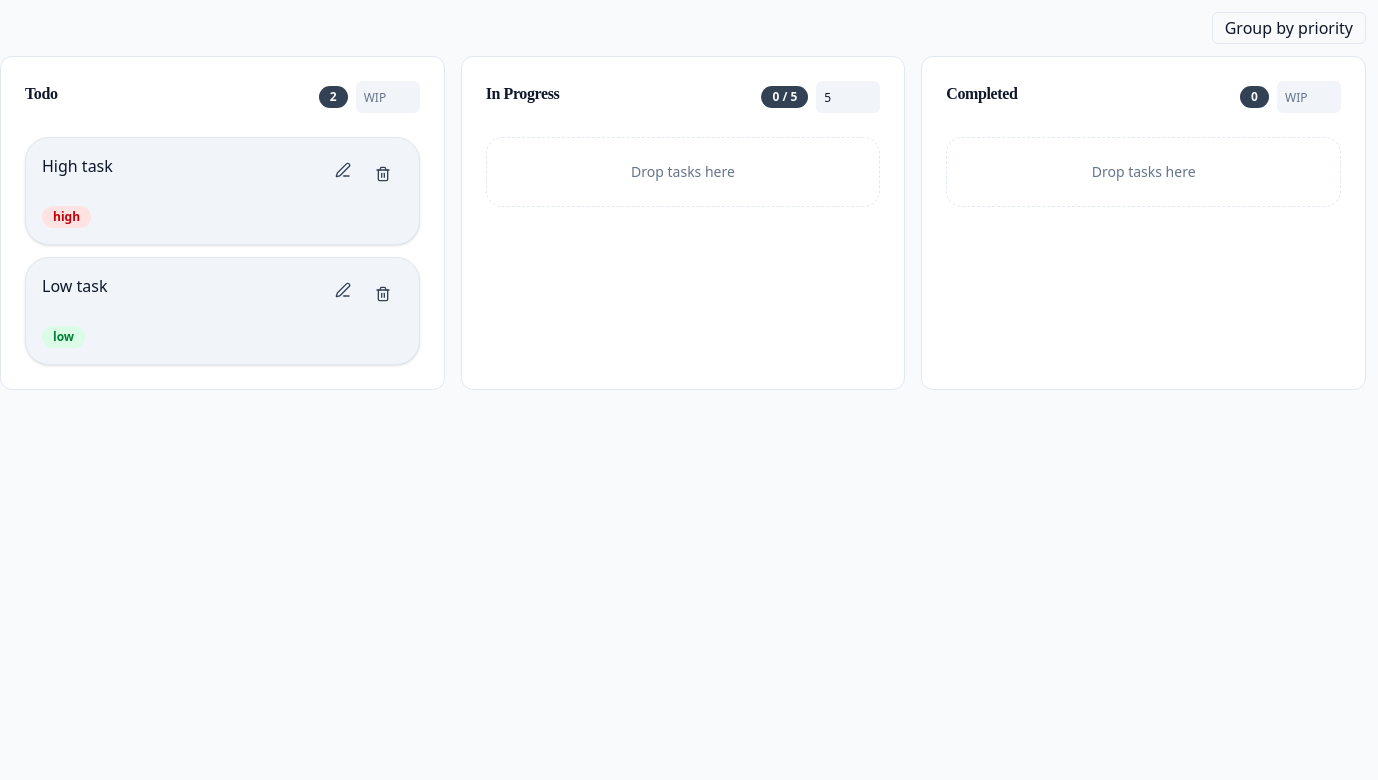
it: KanbanBoard › groups tasks into priority swimlanes when toggled on
The width and height of the screenshot is (1378, 780).
Check: the text "No high priority tasks" is not shown
Click the button "Group by priority".
click(1289, 28)  # box [1212,12,1366,44]
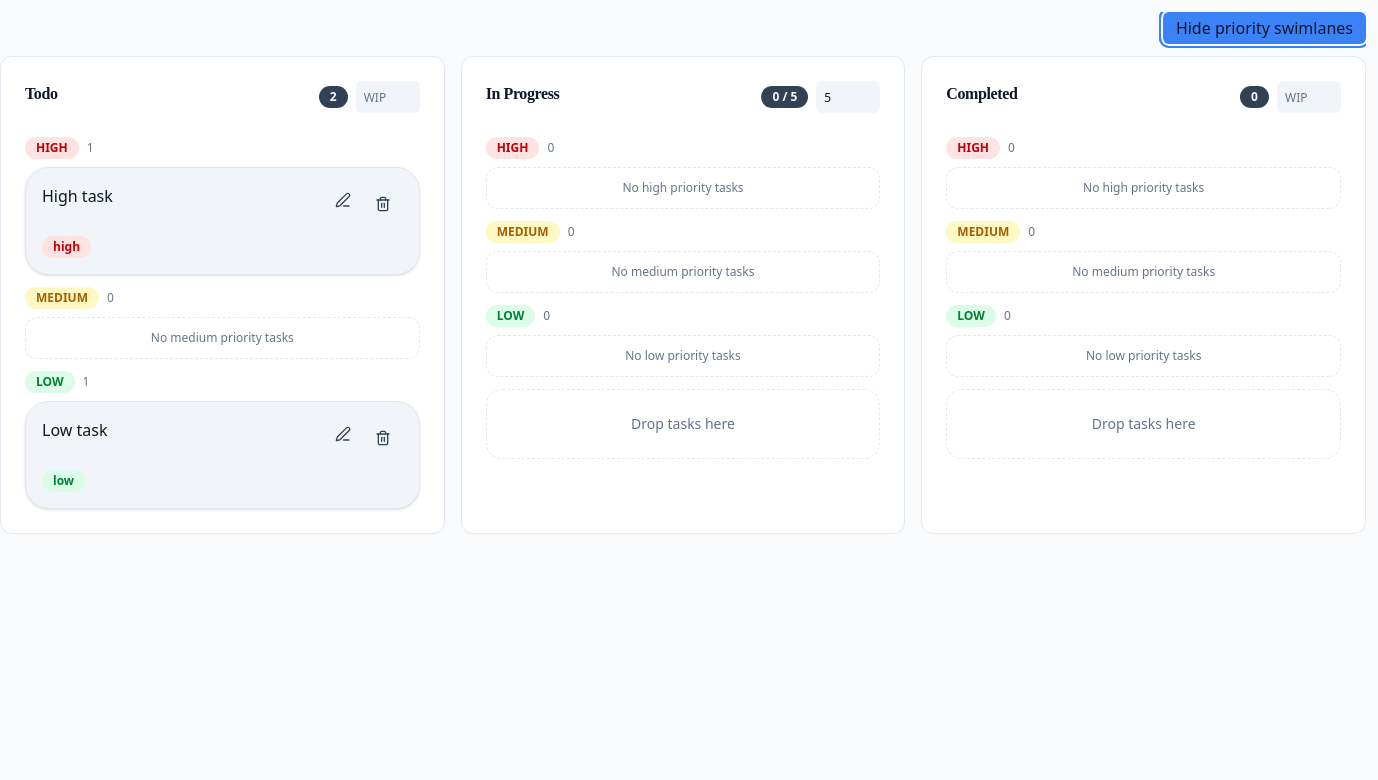
Check: the text "High task" is shown, box [42,184,113,208]
Check: the text "No medium priority tasks" below "Todo" is shown, box [25,317,420,359]
